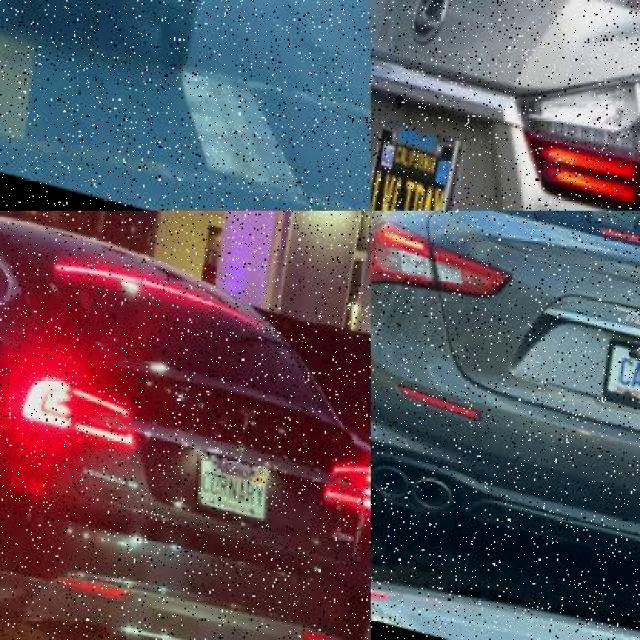licenseplate: (371, 123, 460, 211), (188, 449, 264, 521), (594, 335, 640, 408), (74, 0, 132, 25), (284, 0, 296, 5)
